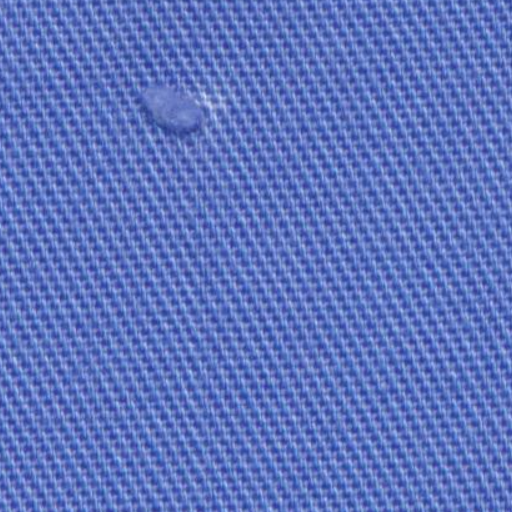MianQiu: (125, 68, 228, 150)
